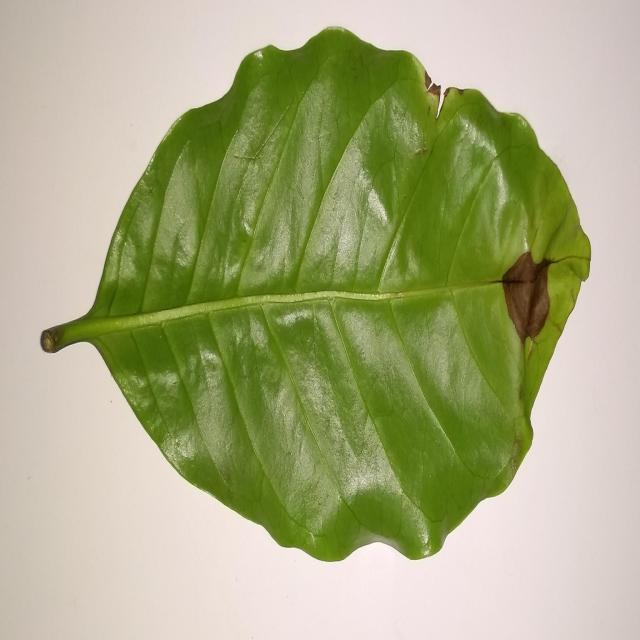phoma: (493, 251, 557, 342)
